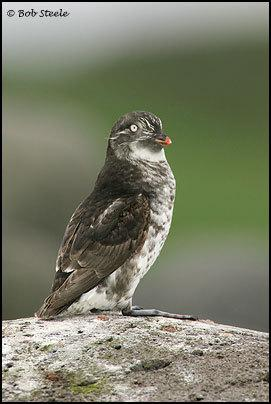006.Least_Auklet: (36, 109, 202, 324)
